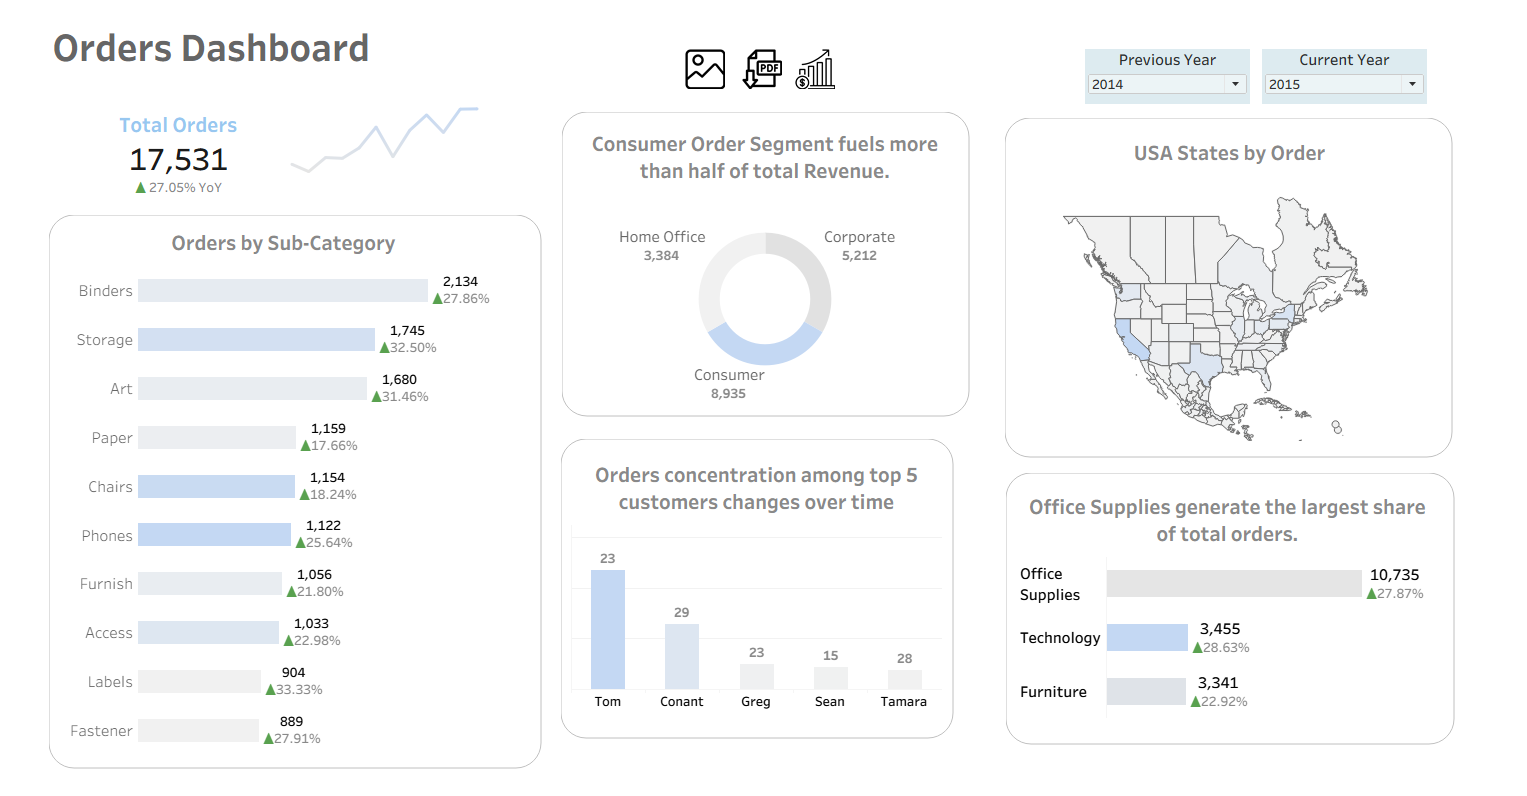

Layout of this report page (visuals, bound fields, positions):
{"tool":"tableau","page":{"name":"Orders Dashboard","canvas":[1500,800],"ordinal":0},"visuals":[{"type":"text","box":[36,8,340,55]},{"type":"dashboard-object","box":[670,39,45,40]},{"type":"dashboard-object","box":[727,39,45,40]},{"type":"dashboard-object","box":[780,39,45,40]},{"type":"parameter","param":"[Parameters].[Parameter 3]","box":[1072,39,165,55]},{"type":"parameter","param":"[Parameters].[Parameter 2]","box":[1249,39,165,55]},{"type":"worksheet","title":"Total Orders","mark":"Text","box":[65,92,202,103]},{"type":"worksheet","title":"Order trend","mark":"Line","rows":["CY Sales (copy)_255579282298802176"],"cols":["order_date"],"box":[270,92,202,103]},{"type":"worksheet","title":"pie chart","mark":"Automatic","box":[549,102,412,306]},{"type":"worksheet","title":"map","mark":"Automatic","box":[992,108,455,343]},{"type":"worksheet","title":"Order By segments","mark":"Pie","rows":["Calculation_1589207721284571143","Calculation_1589207721284591625"],"box":[561,115,382,279]},{"type":"worksheet","title":"Top States by order","mark":"Multipolygon","box":[1007,124,419,307]},{"type":"worksheet","title":"Sub category","mark":"Automatic","box":[36,205,501,575]},{"type":"worksheet","title":"Top Sales by Orders","mark":"Automatic","rows":["sub_category"],"cols":["CY Sales (copy)_255579282298802176"],"box":[45,214,451,531]},{"type":"worksheet","title":"customers","mark":"Automatic","box":[548,429,411,304]},{"type":"worksheet","title":"Top 5 Customers Orders","mark":"Automatic","rows":["Calculation_1589207721278599168"],"cols":["customer_name"],"box":[558,446,371,255]},{"type":"worksheet","title":"Categories","mark":"Automatic","box":[993,463,465,292]},{"type":"worksheet","title":"Orders by Category","mark":"Automatic","rows":["category"],"cols":["CY Sales (copy)_255579282298802176"],"box":[1001,478,427,230]}]}

Visuals, with their boxes in screenshot pixels (x1, y1, x2, y2), scaled from the page's 1500x800 canvas onto the 1527x796 screenshot:
text: <box>37,8,383,63</box>
dashboard-object: <box>682,39,728,79</box>
dashboard-object: <box>740,39,786,79</box>
dashboard-object: <box>794,39,840,79</box>
parameter: <box>1091,39,1259,94</box>
parameter: <box>1271,39,1439,94</box>
"Total Orders" worksheet (Text marks): <box>66,92,272,194</box>
"Order trend" worksheet (Line marks): <box>275,92,480,194</box>
"pie chart" worksheet: <box>559,101,978,406</box>
"map" worksheet: <box>1010,107,1473,449</box>
"Order By segments" worksheet (Pie marks): <box>571,114,960,392</box>
"Top States by order" worksheet (Multipolygon marks): <box>1025,123,1452,429</box>
"Sub category" worksheet: <box>37,204,547,776</box>
"Top Sales by Orders" worksheet: <box>46,213,505,741</box>
"customers" worksheet: <box>558,427,976,729</box>
"Top 5 Customers Orders" worksheet: <box>568,444,946,697</box>
"Categories" worksheet: <box>1011,461,1484,751</box>
"Orders by Category" worksheet: <box>1019,476,1454,704</box>
